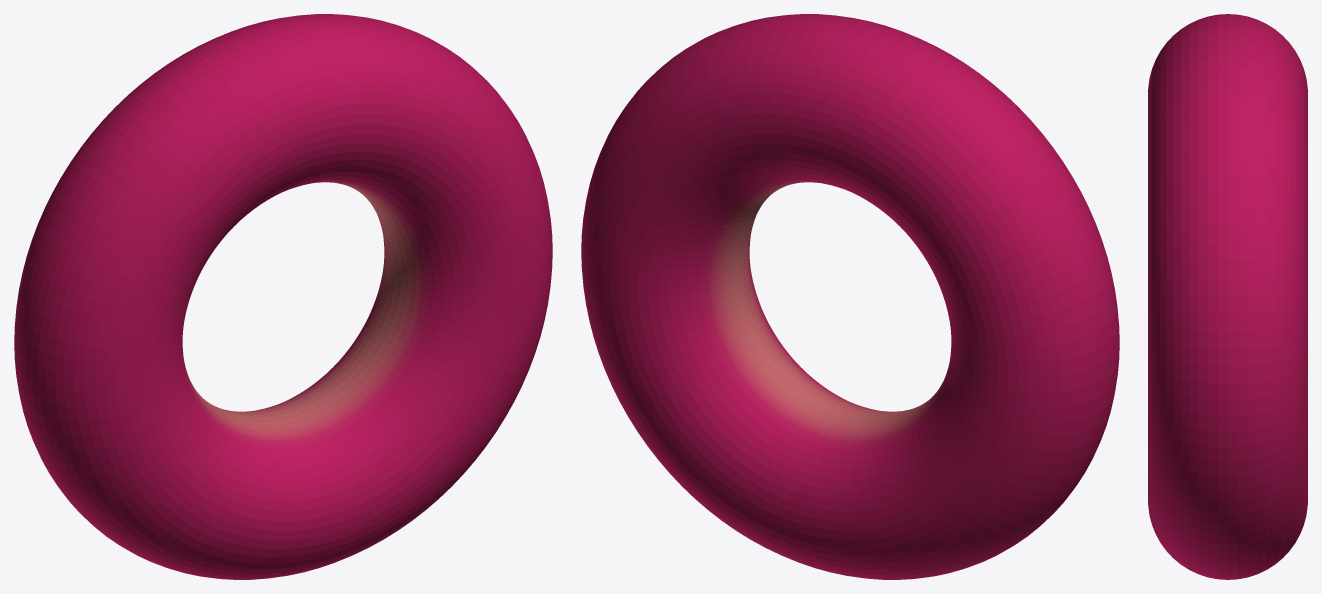
3 views of the same model, side by side, from view 1: azimuth 30°, elevation 25°; view 2: azimuth 150°, elevation 25°; view 3: azimuth 270°, elevation 25° (orthographic). The views are drawn at different scales.
Parts seen in each view (by area): view 1: world; view 2: world; view 3: world.
Boxes of the visible parts, x1,y1,x2,y2 form: world: [14, 14, 552, 579]; world: [581, 14, 1119, 579]; world: [1148, 14, 1307, 579].
Bounding box in the file's own units: 31.6 × 31.6 × 8.92.
